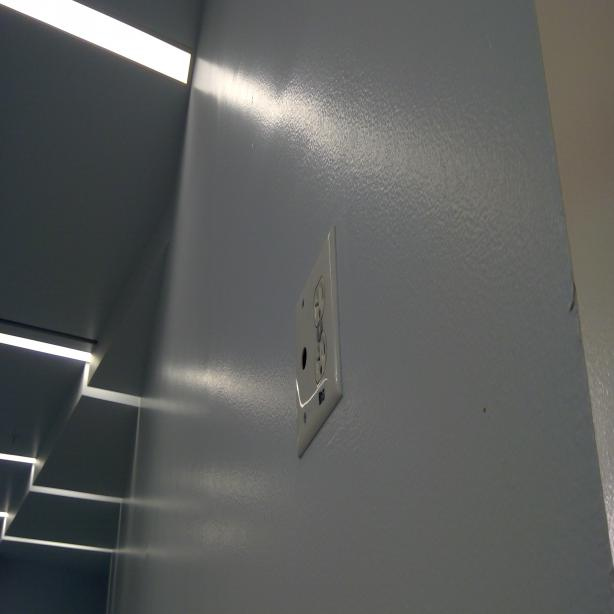typeb: (311, 279, 329, 321), (311, 340, 327, 378)
